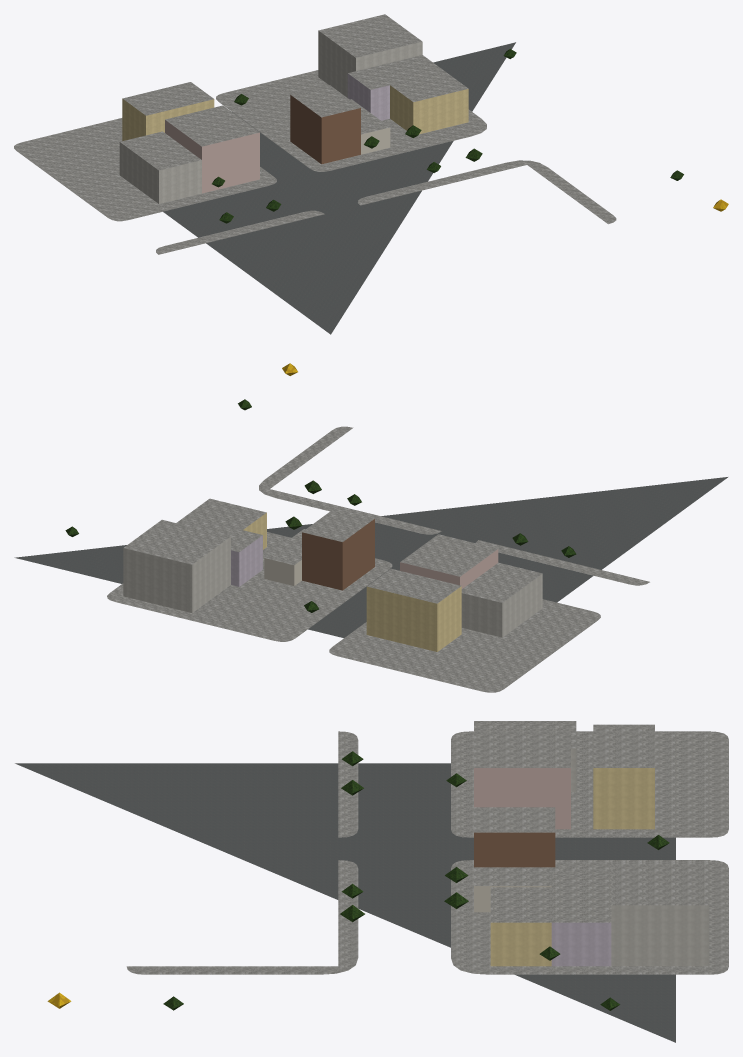
File: cidade_S05_05_lod.gltf
3 views of the same model, one above another, from view 1: azimuth 30°, elevation 25°; view 2: azimuth 150°, elevation 25°; view 3: azimuth 270°, elevation 25° (orthographic). The views are drawn at different scales.
Parts seen in each view (by area): view 1: S05_05_Chao_LOD2, S05_05_Edificios_LOD1, S05_05_Vegetacao_LOD2; view 2: S05_05_Chao_LOD2, S05_05_Edificios_LOD1, S05_05_Vegetacao_LOD2; view 3: S05_05_Chao_LOD2, S05_05_Edificios_LOD1, S05_05_Vegetacao_LOD2.
Part boxes in pixels (x1=…): S05_05_Chao_LOD2: x1=14, y1=42, x2=616, y2=334; S05_05_Edificios_LOD1: x1=119, y1=14, x2=468, y2=203; S05_05_Vegetacao_LOD2: x1=212, y1=49, x2=728, y2=223; S05_05_Chao_LOD2: x1=14, y1=426, x2=727, y2=692; S05_05_Edificios_LOD1: x1=123, y1=498, x2=542, y2=651; S05_05_Vegetacao_LOD2: x1=65, y1=363, x2=576, y2=612; S05_05_Chao_LOD2: x1=15, y1=731, x2=728, y2=1042; S05_05_Edificios_LOD1: x1=474, y1=721, x2=708, y2=966; S05_05_Vegetacao_LOD2: x1=47, y1=751, x2=669, y2=1010.
Size of the model in its own units: 111 by 10.37 by 108.
10 materials, 10 textured.
